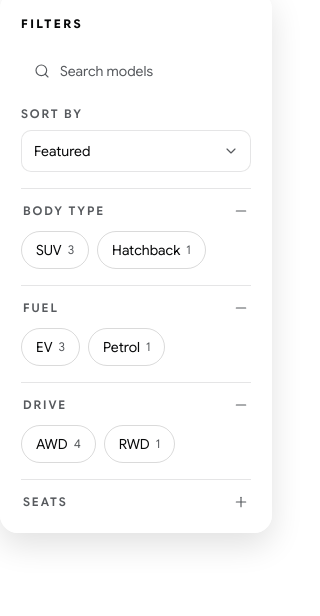
FilterPanel › collapses and expands a group; a group can start closed (Seats)
Expected: the button "7" is not shown
Click the button "Seats" at point(136, 502), box [21,492,251,512]
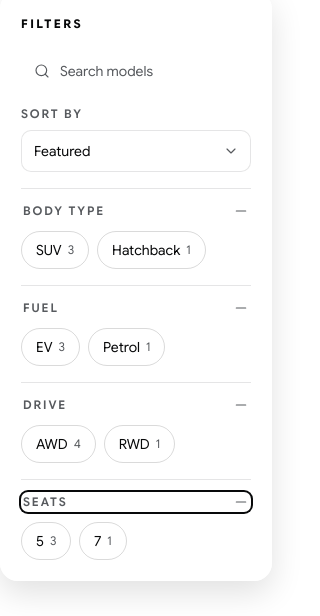
Expected: the button "Seats" is expanded, [21,492,251,512]
Expected: the button "7 1" is shown, [79,522,127,560]
